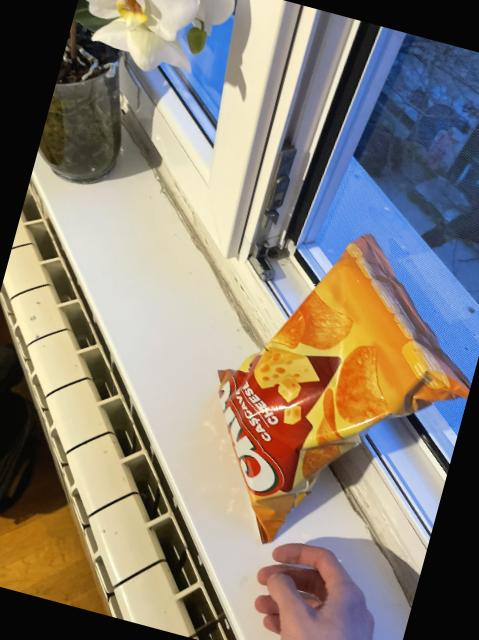Chio Cascaval 125g: (176, 202, 479, 583)
